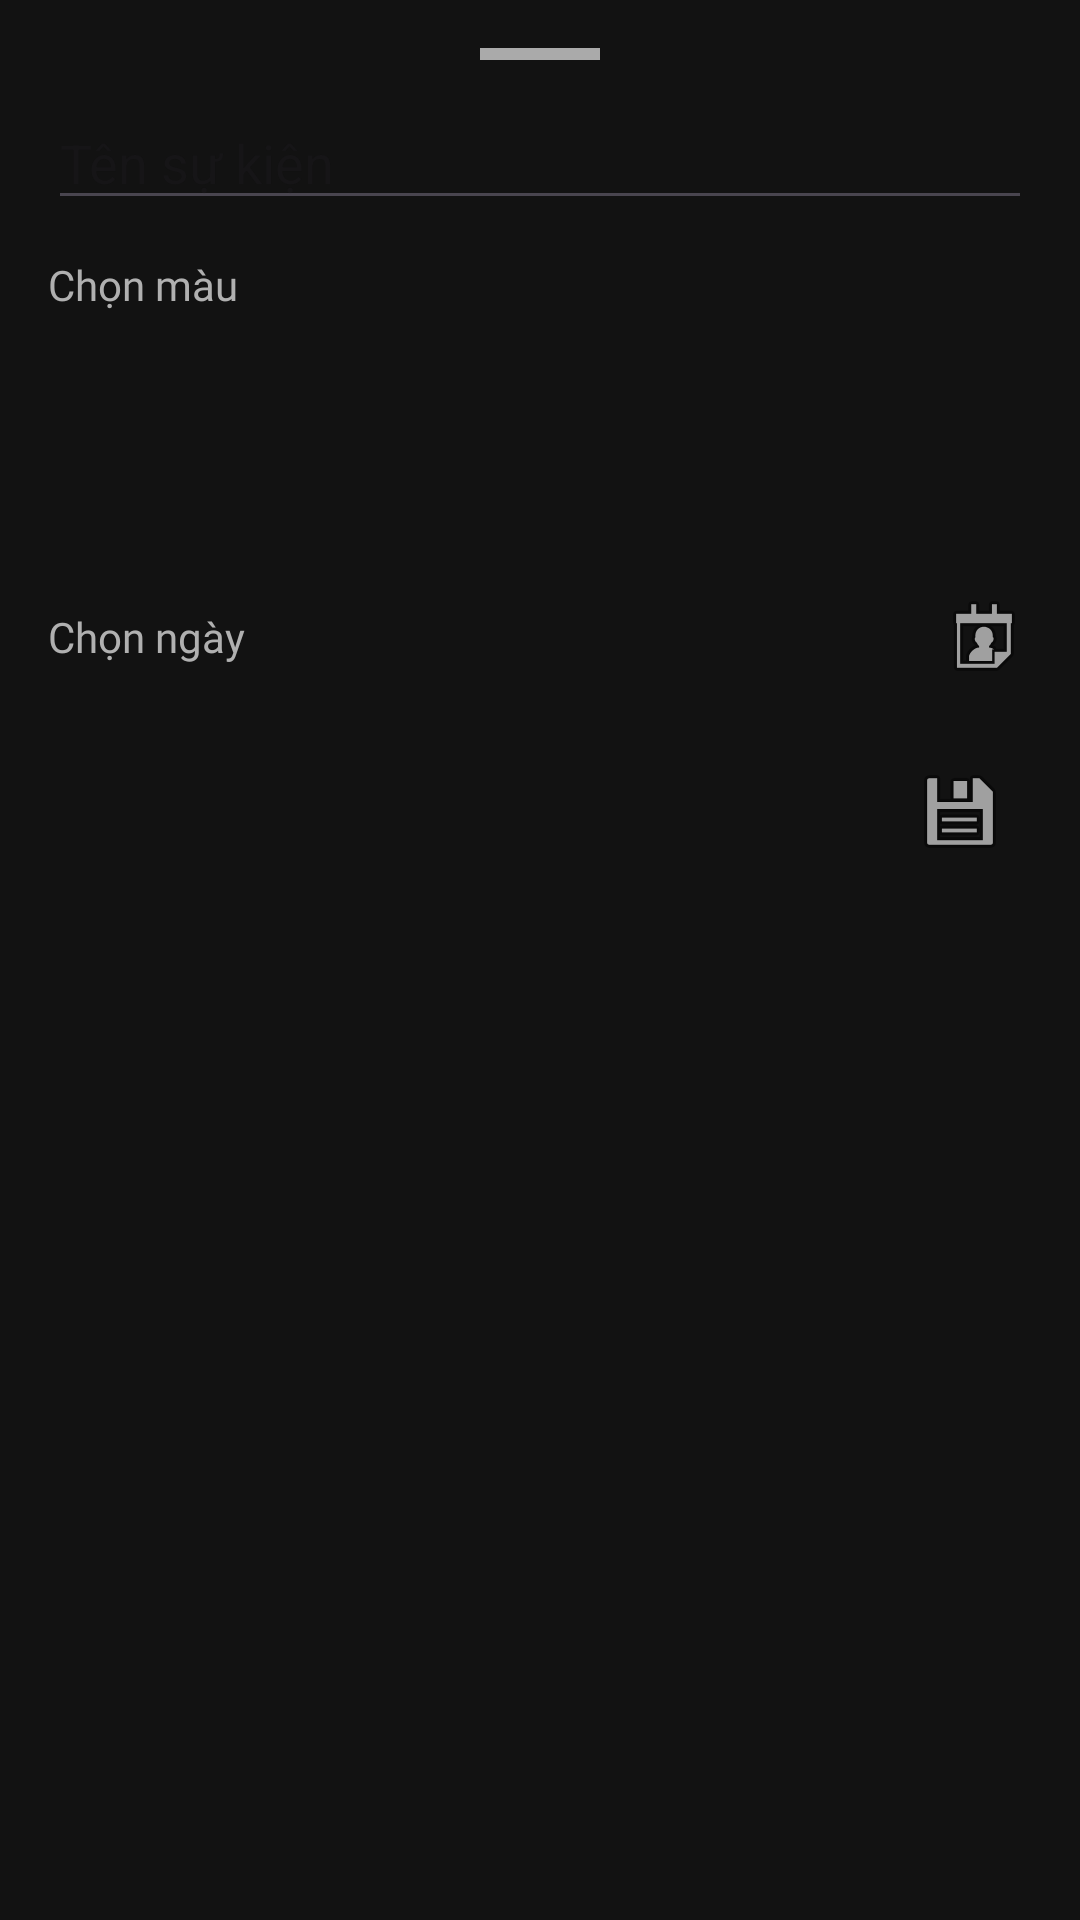

Screen size 1080w x 1920h. Icon name, then its center in pixels as (x=x, y=y):
calendar: (x=984, y=636)
Lưu: (x=960, y=811)
